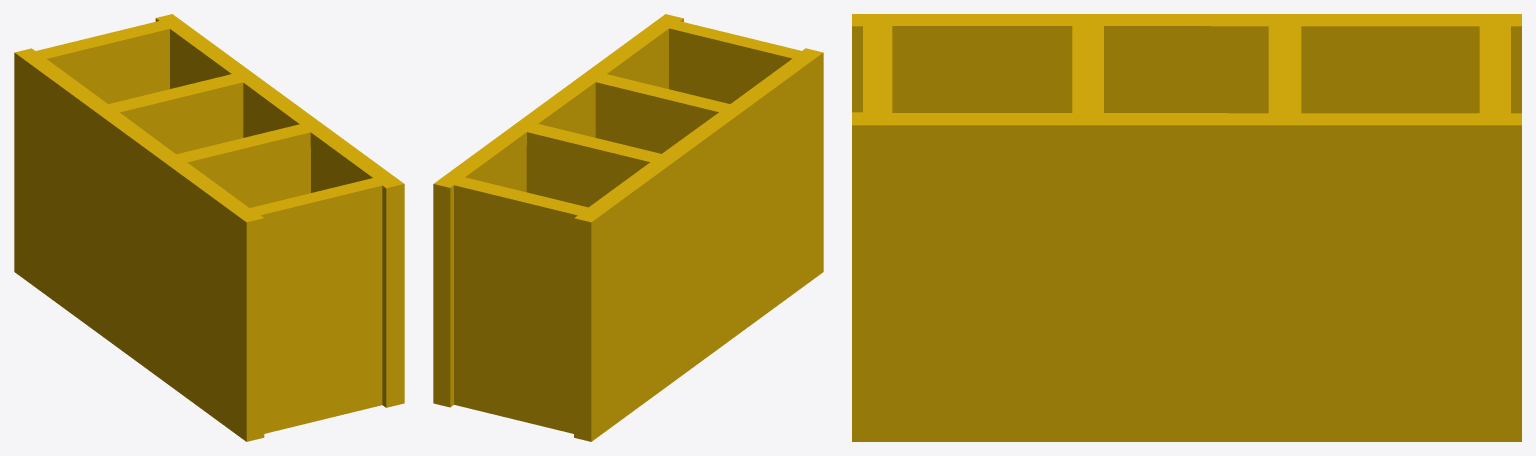
The model's file is Cinderblock_01_Lod0.fbx.
3 renders of one model, left to right at view 1: azimuth 30°, elevation 25°; view 2: azimuth 150°, elevation 25°; view 3: azimuth 270°, elevation 25°, orthographic. The views are drawn at different scales.
Visible parts, largest first — view 1: Cinderblock_01_Lod0; view 2: Cinderblock_01_Lod0; view 3: Cinderblock_01_Lod0.
Part boxes in pixels (x1=…): Cinderblock_01_Lod0: x1=14, y1=14, x2=404, y2=441; Cinderblock_01_Lod0: x1=433, y1=14, x2=823, y2=441; Cinderblock_01_Lod0: x1=852, y1=14, x2=1521, y2=441.
Bounding box in the file's own units: 20.09 × 26.69 × 51.15.
